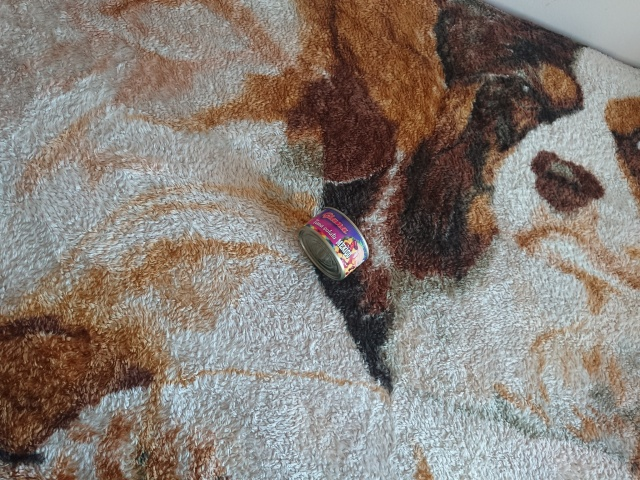Giana Tuna Salad Mexico 185g: (295, 204, 371, 284), (293, 202, 369, 282)
